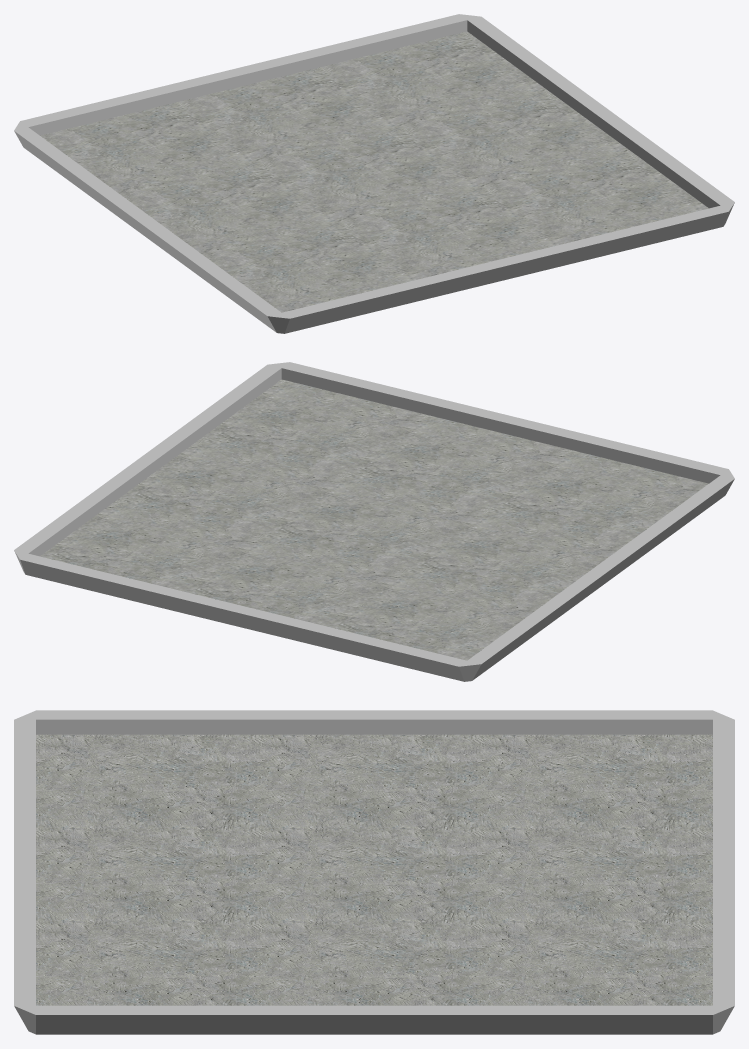
File: Roof_Type_C01.fbx
3 views of the same model, one above another, from view 1: azimuth 30°, elevation 25°; view 2: azimuth 150°, elevation 25°; view 3: azimuth 270°, elevation 25° (orthographic). The views are drawn at different scales.
Parts seen in each view (by area): view 1: Roof_Type_C01; view 2: Roof_Type_C01; view 3: Roof_Type_C01.
Boxes of the visible parts, box(x1,y1,x2,y2) form: Roof_Type_C01: box(14, 14, 734, 333); Roof_Type_C01: box(14, 362, 734, 681); Roof_Type_C01: box(14, 710, 734, 1034).
Size of the model in its own units: 818 by 32 by 818.
